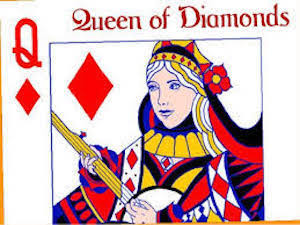QueenOfDiamonds: (1, 1, 299, 220)
